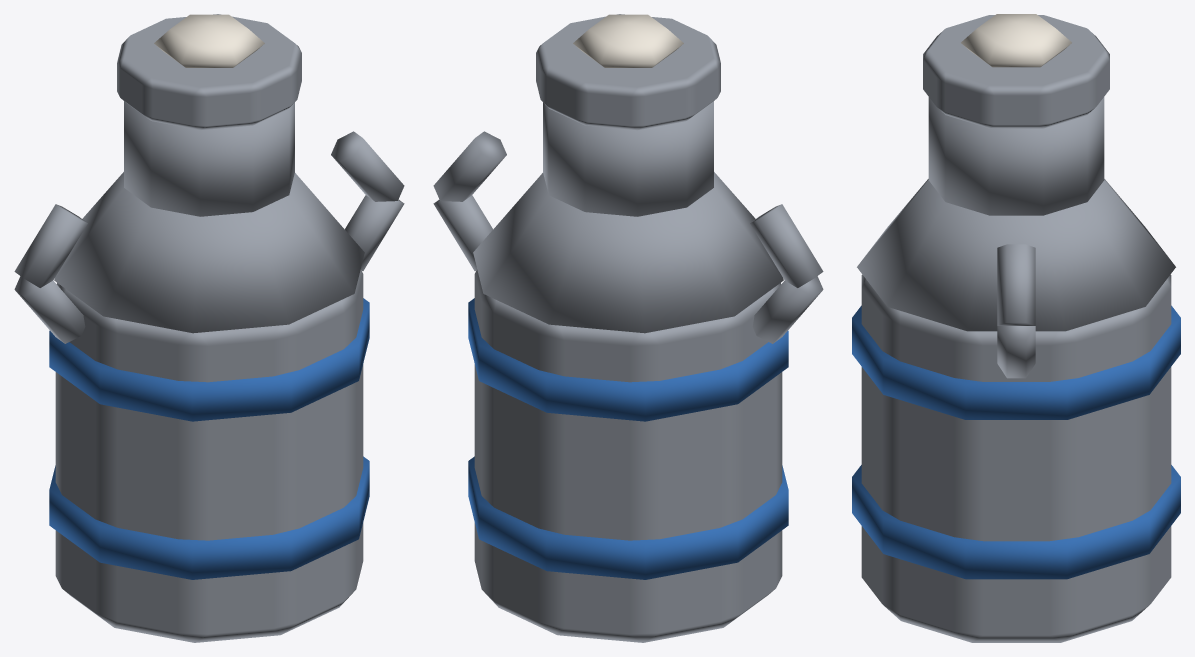
File: item_milk.glb
The picture shows the model from 3 angles, left to right: view 1: azimuth 30°, elevation 25°; view 2: azimuth 150°, elevation 25°; view 3: azimuth 270°, elevation 25°; orthographic projection.
Visible parts, largest first — view 1: item_milk; view 2: item_milk; view 3: item_milk.
Boxes of the visible parts, x1=… form: item_milk: x1=14, y1=14, x2=404, y2=642; item_milk: x1=433, y1=14, x2=823, y2=642; item_milk: x1=852, y1=14, x2=1180, y2=642.
Size of the model in its own units: 0.2766 by 0.389 by 0.206.
